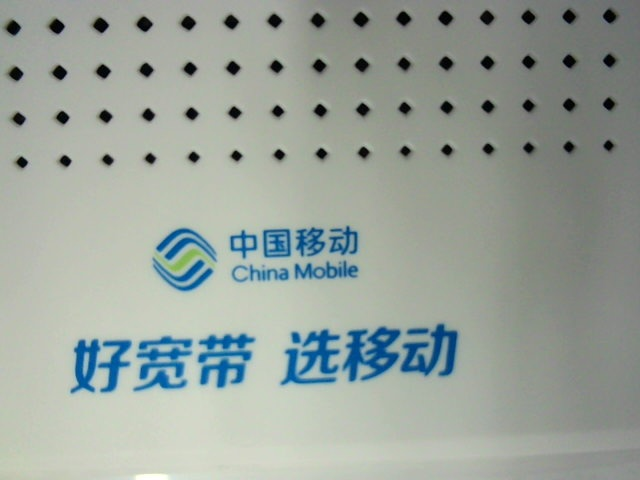AA_ChinaMobile: (55, 220, 470, 396)
